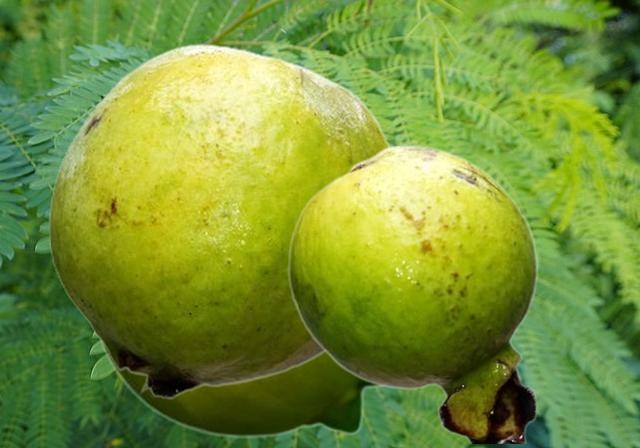guava: (48, 43, 392, 399), (287, 144, 538, 442), (98, 340, 387, 437)
